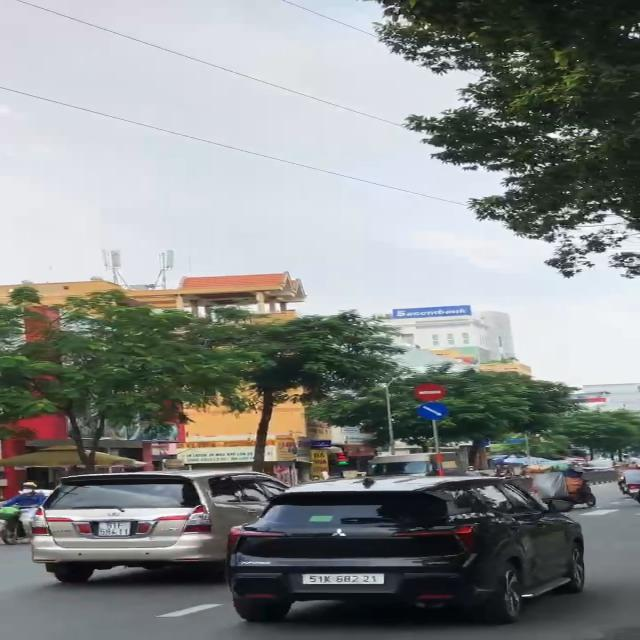Bien bao cam di nguoc chieu: (411, 382, 450, 402)
Bien bao huong phai di vong chuong ngai vat: (411, 402, 458, 423)
